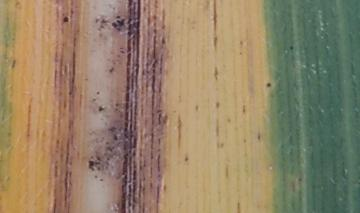tarspot: (212, 1, 218, 53), (61, 15, 72, 26), (212, 64, 219, 81), (87, 159, 95, 173), (110, 21, 120, 32), (106, 125, 117, 133), (105, 145, 116, 153), (255, 130, 262, 142), (68, 6, 75, 18), (116, 18, 125, 27), (107, 65, 116, 74), (161, 182, 168, 193), (235, 198, 240, 213), (183, 155, 191, 164), (10, 58, 16, 70), (240, 102, 246, 114), (97, 103, 104, 113), (100, 17, 110, 24), (160, 34, 166, 45), (94, 89, 102, 97), (118, 47, 126, 55), (151, 27, 159, 35), (288, 43, 295, 52), (112, 134, 119, 142), (265, 81, 272, 89), (193, 103, 200, 111), (213, 100, 220, 108), (238, 39, 245, 47), (93, 16, 100, 24), (225, 116, 231, 125), (296, 175, 303, 182), (95, 154, 102, 161), (126, 1, 134, 7), (238, 49, 244, 56), (152, 13, 159, 19), (115, 14, 121, 20), (114, 101, 120, 107), (241, 137, 247, 143), (67, 89, 72, 96), (98, 177, 105, 182), (96, 166, 102, 170)
